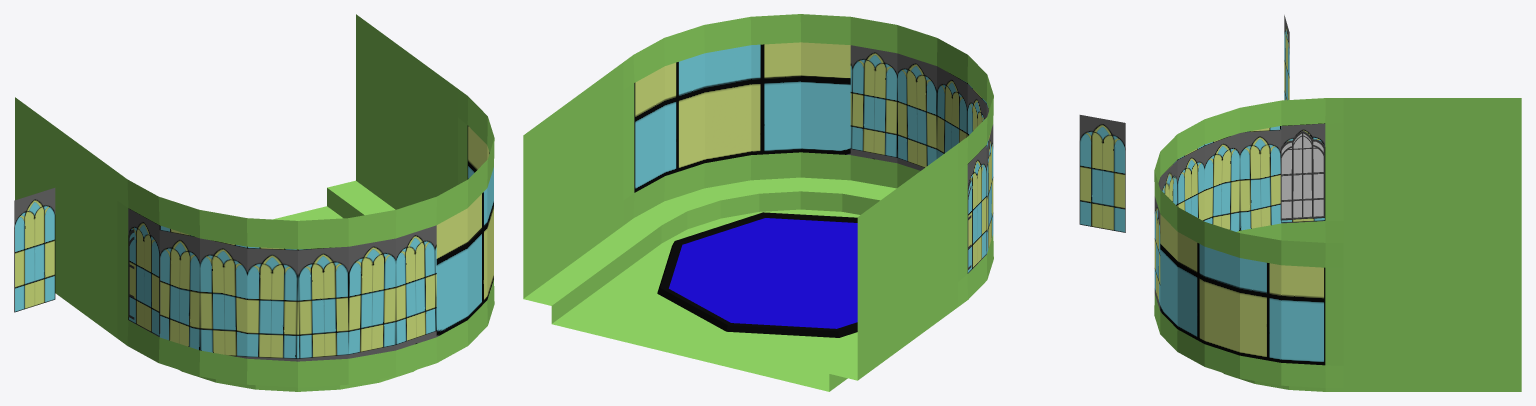
Rendered from Cathedral.fbx.
3 renders of one model, left to right at view 1: azimuth 30°, elevation 25°; view 2: azimuth 150°, elevation 25°; view 3: azimuth 270°, elevation 25°, orthographic. The views are drawn at different scales.
Parts seen in each view (by area): view 1: Fenster2, ImageToStl.com_fenster_outline; view 2: Fenster2, Sky; view 3: Fenster2, Plane, ImageToStl.com_fenster_outline.
Part boxes in pixels (x1=…): Fenster2: x1=14, y1=14, x2=494, y2=391; ImageToStl.com_fenster_outline: x1=128, y1=229, x2=160, y2=333; Fenster2: x1=523, y1=14, x2=1125, y2=391; Sky: x1=657, y1=212, x2=857, y2=337; Fenster2: x1=1154, y1=15, x2=1521, y2=391; Plane: x1=1281, y1=133, x2=1323, y2=218; ImageToStl.com_fenster_outline: x1=1280, y1=130, x2=1324, y2=220.
Bounding box in the file's own units: 2700 × 1160 × 2063.
